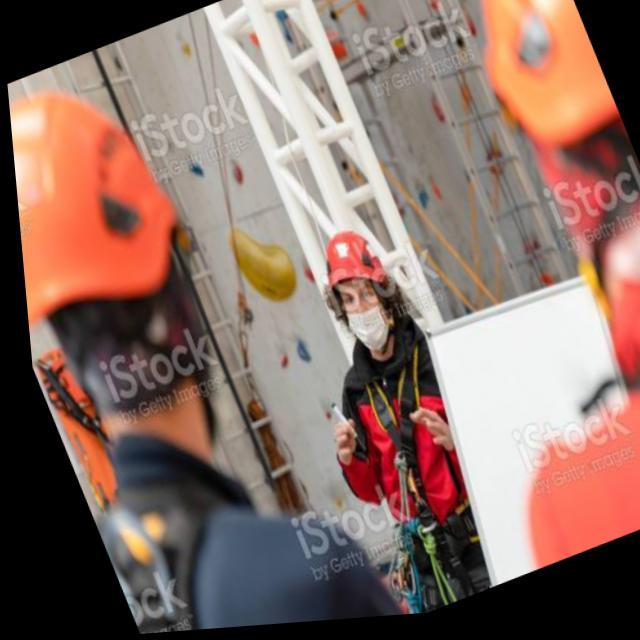belt: (302, 316, 510, 624)
